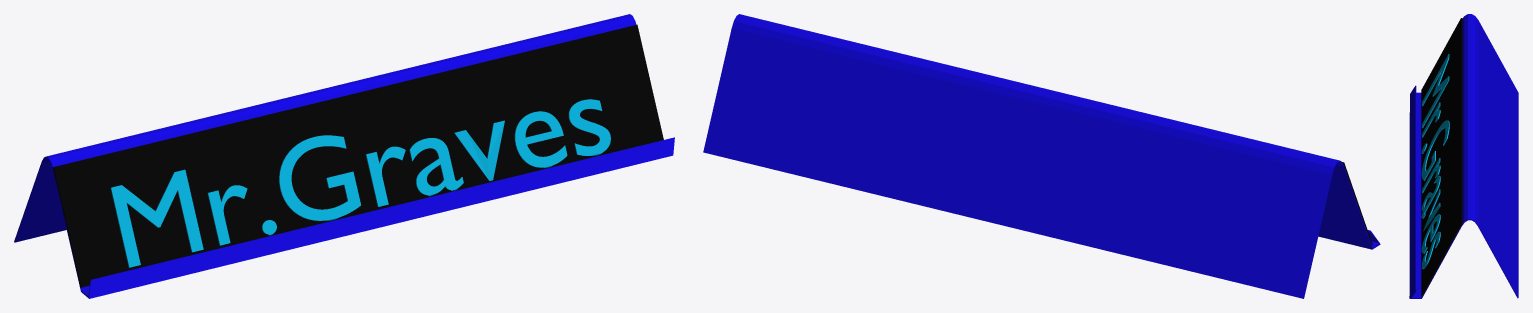
The model's file is NameTag.fbx.
The picture shows the model from 3 angles, left to right: view 1: azimuth 30°, elevation 25°; view 2: azimuth 150°, elevation 25°; view 3: azimuth 270°, elevation 25°; orthographic projection. The views are drawn at different scales.
Visible parts, largest first — view 1: Plane.001, Plane, Text.002; view 2: Plane; view 3: Plane, Plane.001, Text.002.
Part boxes in pixels (left/top/right/bottom): Plane.001: left=53, top=24, right=663, bottom=287; Plane: left=14, top=14, right=674, bottom=298; Text.002: left=110, top=99, right=610, bottom=267; Plane: left=703, top=14, right=1380, bottom=298; Plane: left=1409, top=14, right=1518, bottom=298; Plane.001: left=1421, top=18, right=1462, bottom=295; Text.002: left=1421, top=54, right=1449, bottom=269.
Size of the model in its own units: 505 by 90.97 by 112.
